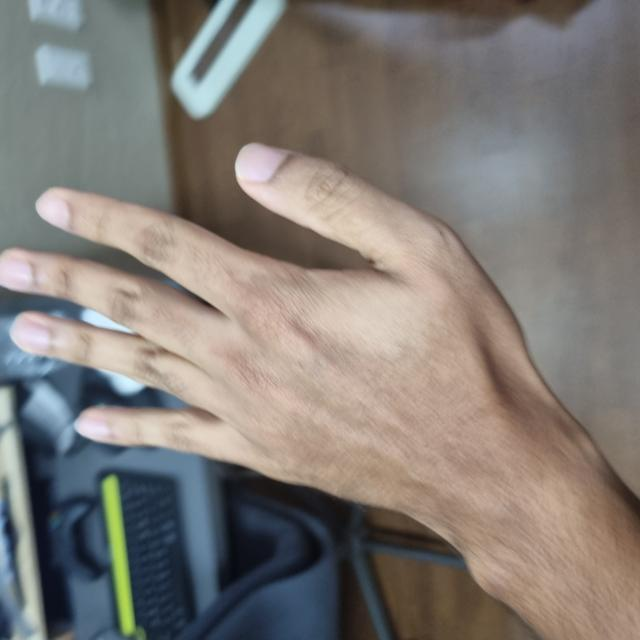Paper: (114, 4, 489, 550)
